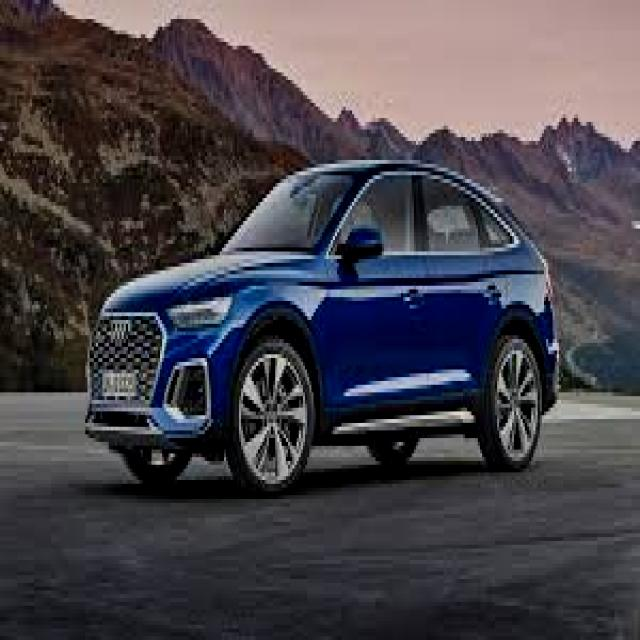SUV: (80, 154, 556, 493)
